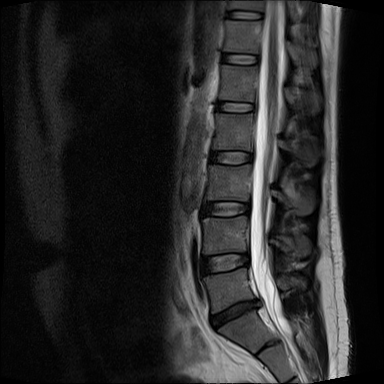Lumbar Disc Bulge LDB: (206, 295, 268, 334)
Normal IVD: (199, 246, 252, 279), (199, 198, 252, 220), (206, 149, 255, 166), (216, 49, 262, 66), (213, 98, 258, 114), (223, 9, 266, 22)
Spinal Stenosis SS: (249, 295, 266, 312)
